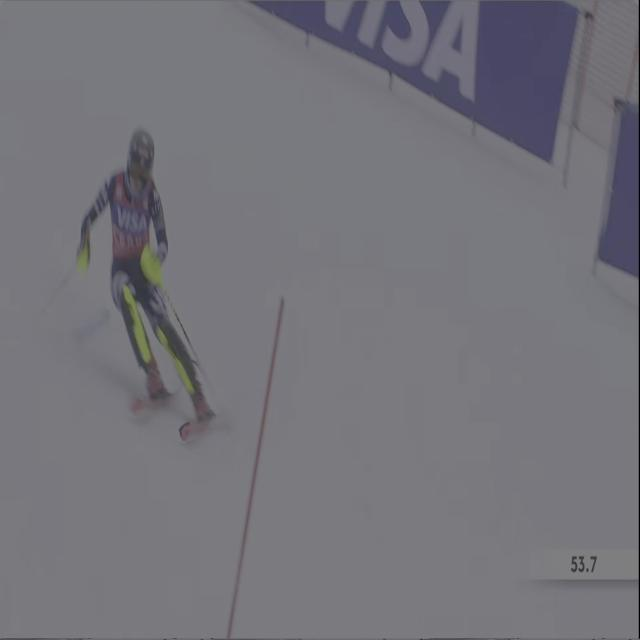gate: (230, 295, 303, 640)
